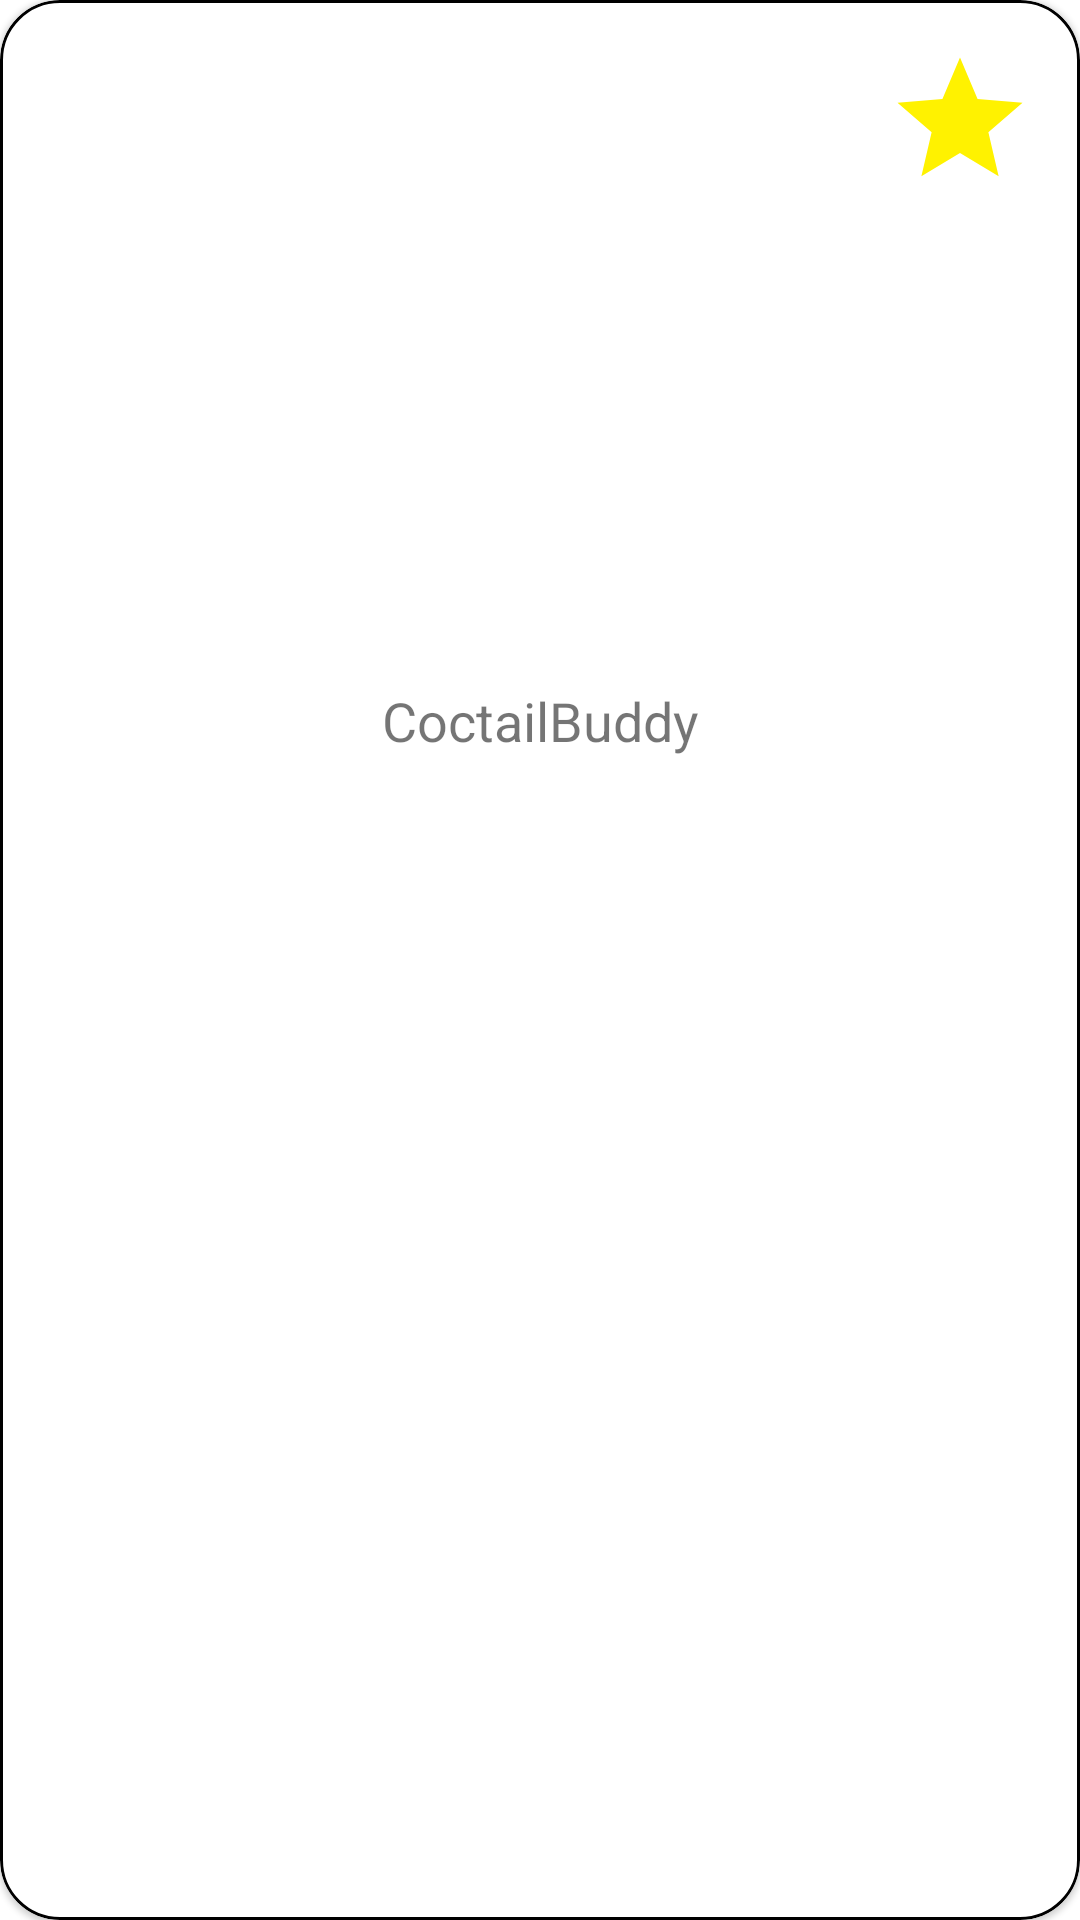

Named icons in this screenshot (1080px×1920px) and their centers, point (x, y):
star full: point (960, 117)
